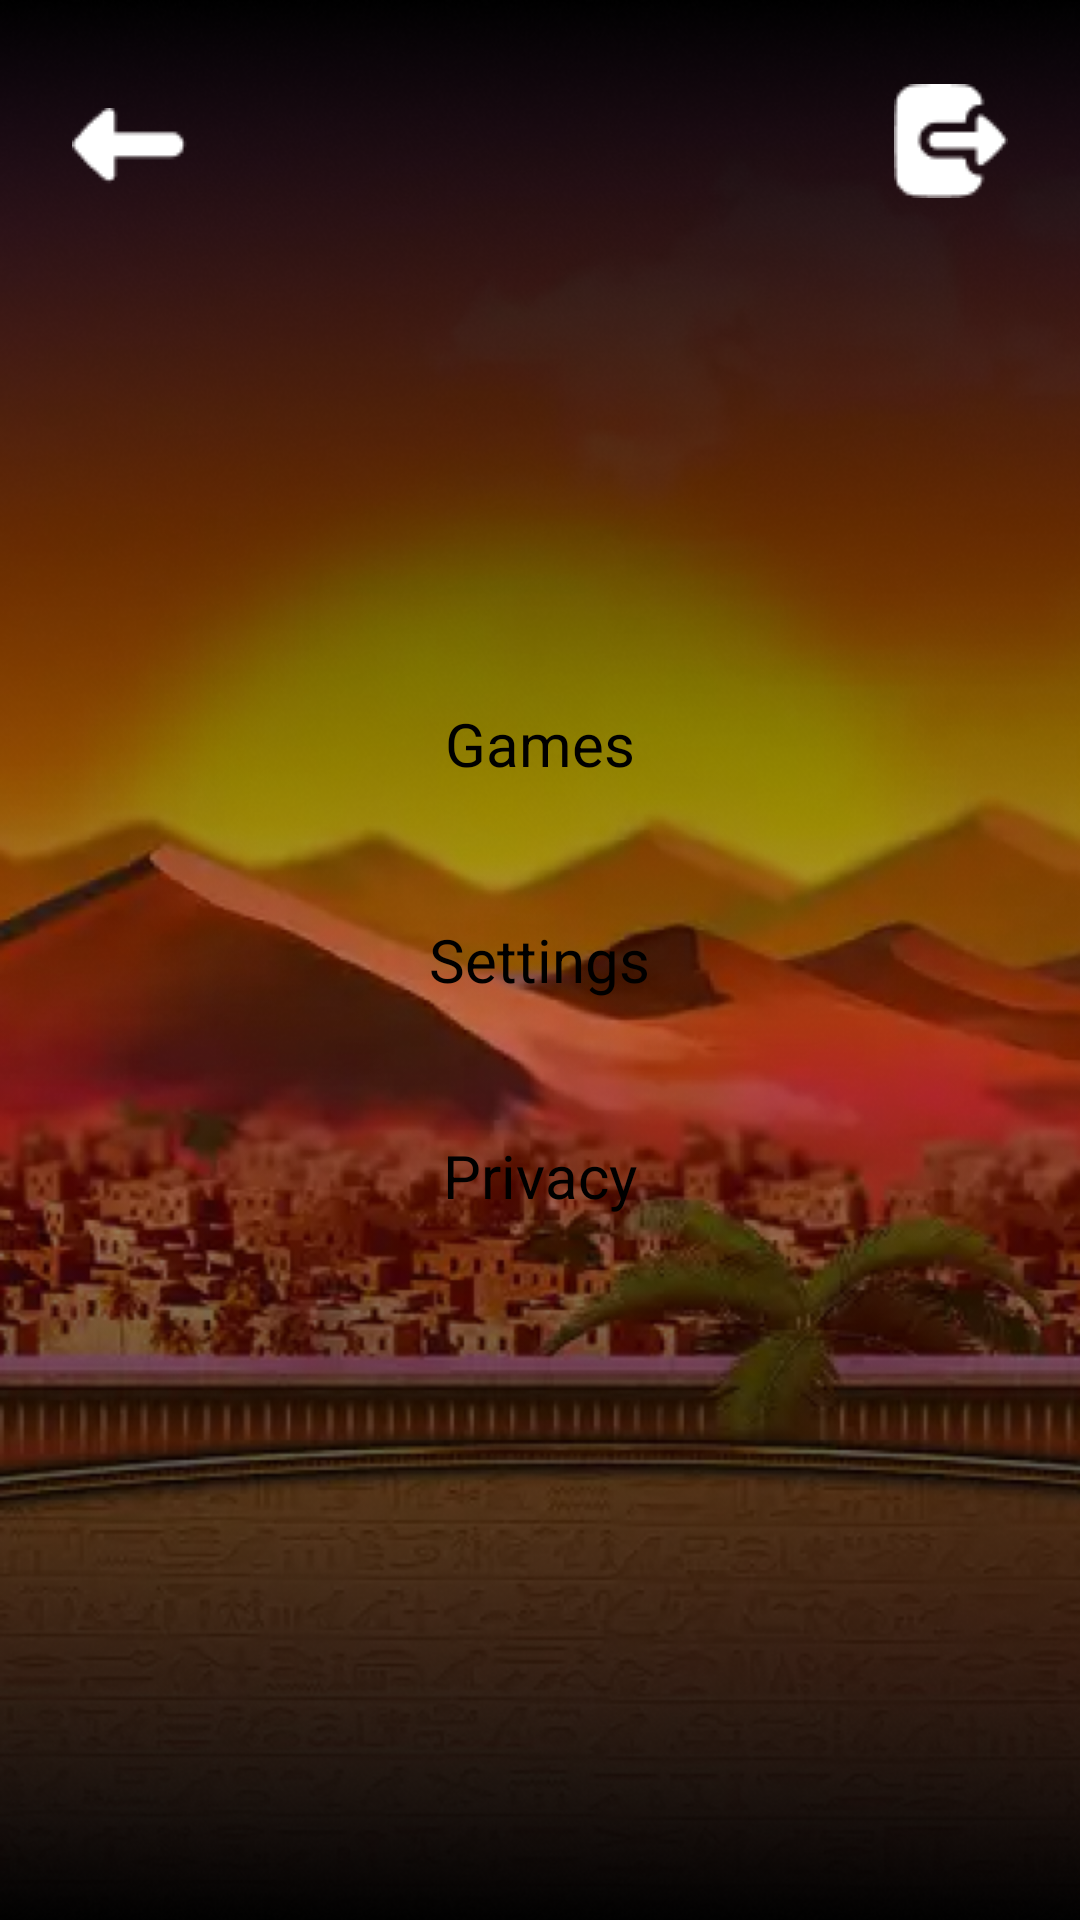

Named icons in this screenshot (1080×1920) and their centers, (x=x, y=y):
Return: (x=130, y=146)
